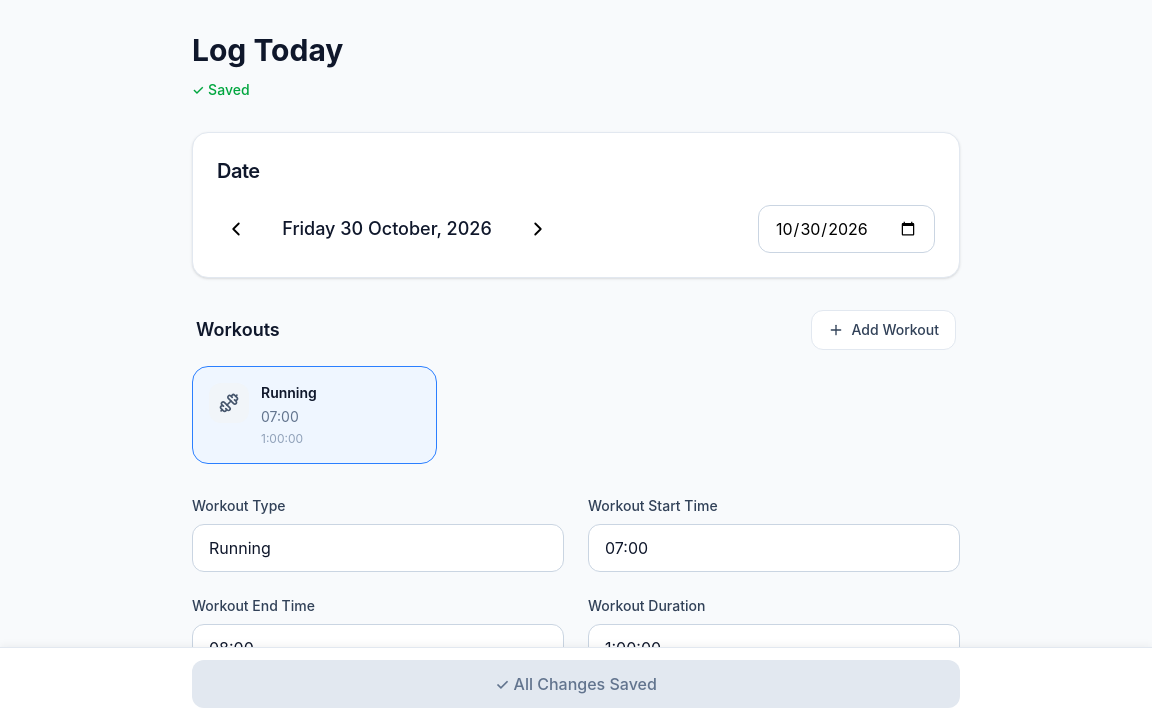
Scenario: LogWorkoutMetrics › marks page dirty when workout changes
Step 1. Replace the text in the field labelled "Workout Type" with "Cycling" → (378, 548), box [192, 524, 564, 572]
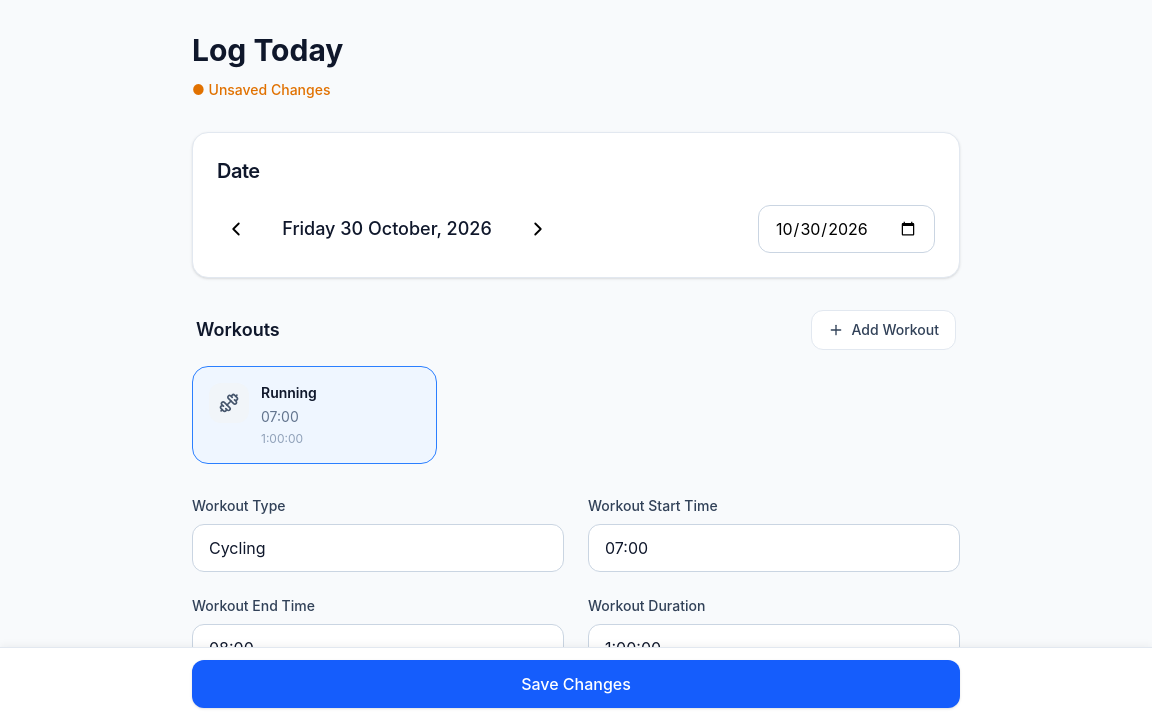
expect the text "● Unsaved Changes" is shown: met, box [192, 80, 330, 100]
expect the button "Save Changes" is enabled: met, box [192, 660, 960, 708]
